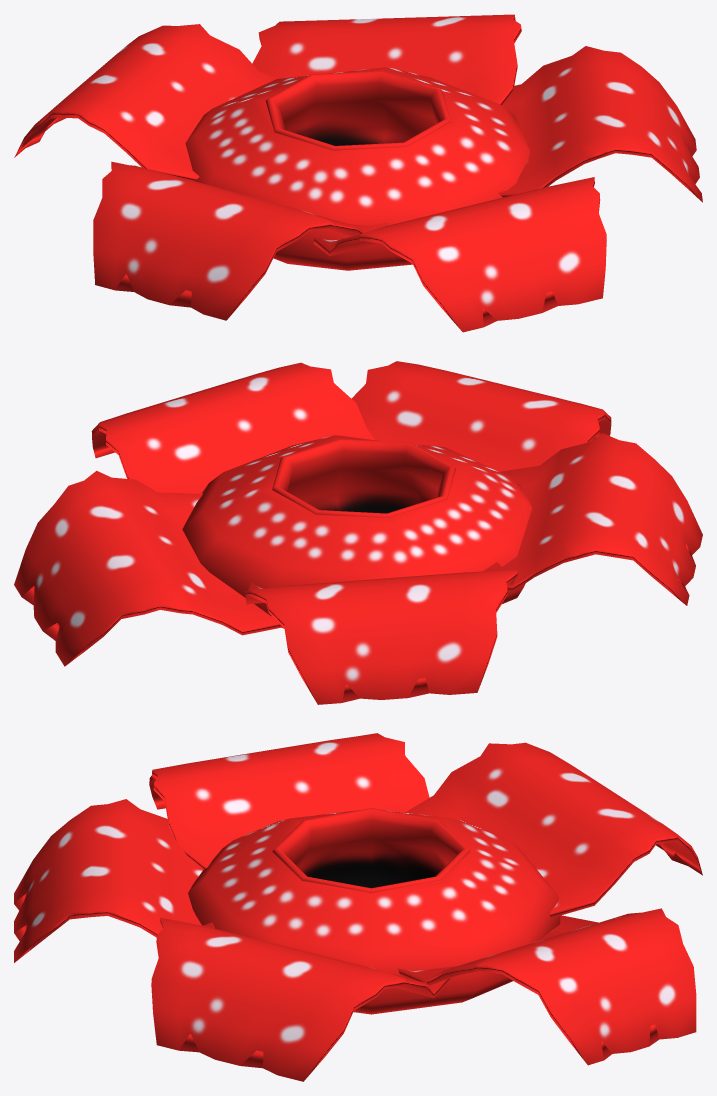
Rendered from rafflesia1.fbx.
The picture shows the model from 3 angles, top to bottom: view 1: azimuth 30°, elevation 25°; view 2: azimuth 150°, elevation 25°; view 3: azimuth 270°, elevation 25°; orthographic projection. The views are drawn at different scales.
Visible parts, largest first — view 1: Poisonous_flower; view 2: Poisonous_flower; view 3: Poisonous_flower.
Part boxes in pixels (x1=…): Poisonous_flower: x1=14, y1=14, x2=702, y2=332; Poisonous_flower: x1=14, y1=361, x2=702, y2=704; Poisonous_flower: x1=14, y1=733, x2=702, y2=1081.
Size of the model in its own units: 2310 by 406 by 2255.
